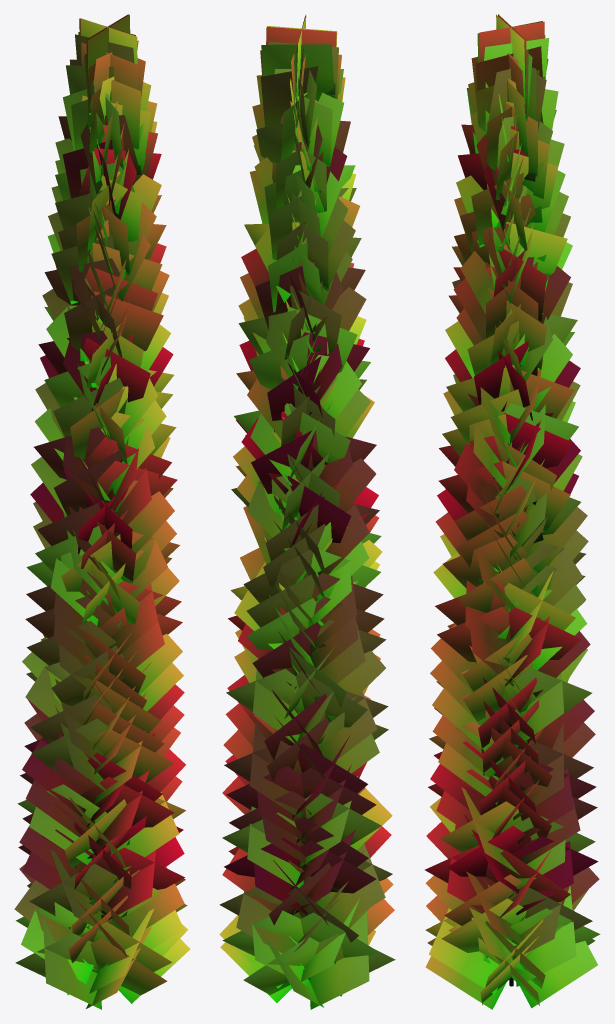
Rendered from URP_P4_Tree_9_LOD_3.fbx.
3 views of the same model, side by side, from view 1: azimuth 30°, elevation 25°; view 2: azimuth 150°, elevation 25°; view 3: azimuth 270°, elevation 25° (orthographic).
Parts seen in each view (by area): view 1: Tree_9_LOD_3; view 2: Tree_9_LOD_3; view 3: Tree_9_LOD_3.
Boxes of the visible parts, x1,y1,x2,y2 form: Tree_9_LOD_3: (14, 14, 190, 1009); Tree_9_LOD_3: (219, 15, 395, 1009); Tree_9_LOD_3: (425, 14, 600, 1009).
Size of the model in its own units: 211 by 1287 by 211.
